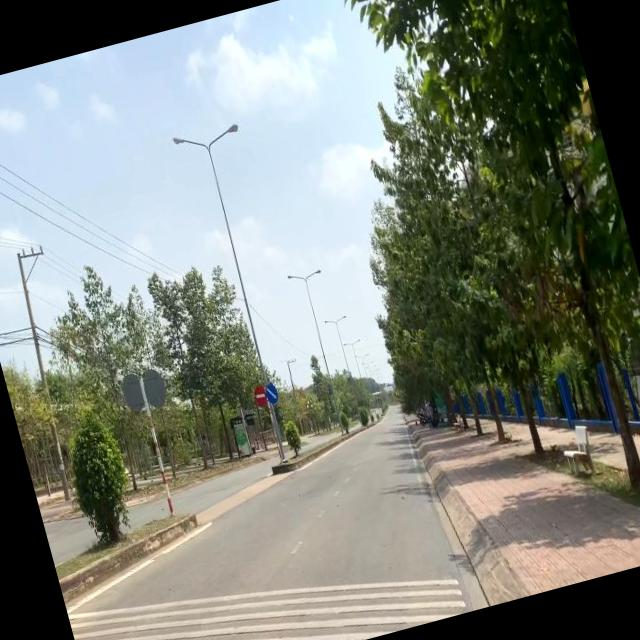P-102: (252, 382, 268, 410)
R-302a: (266, 383, 281, 405)
